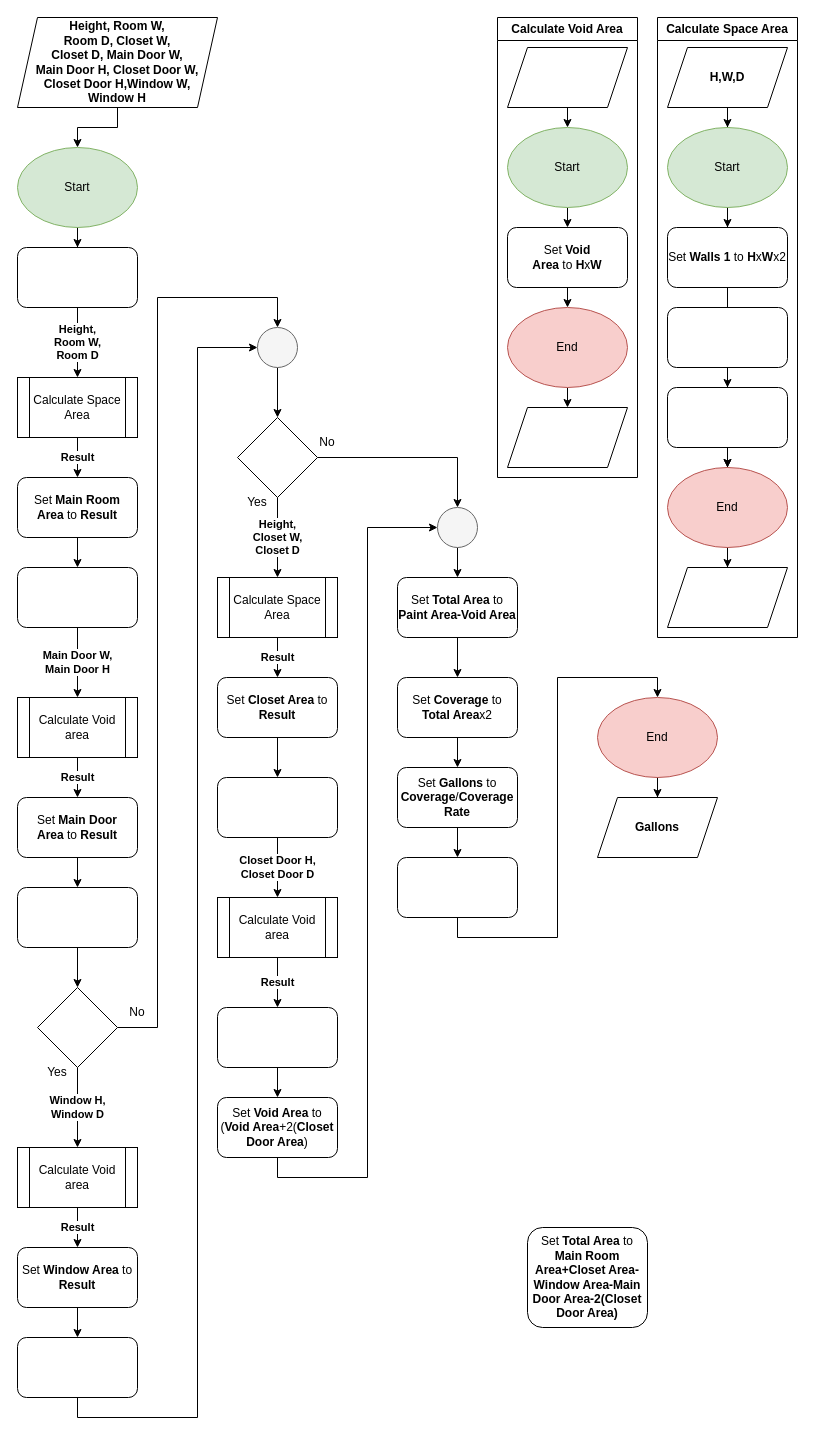
The diagram is 815 pixels wide and 1443 high, and some of its shapes have lost their labels. Each missing label, with the box of its shape:
Coverage Rate is 400: (16, 246, 138, 308)
H, W: (506, 46, 628, 108)
Is there a closet?: (236, 416, 318, 498)
Is there a window?: (36, 986, 118, 1068)
Round Gallons up to the nearest whole number: (396, 856, 518, 918)
Set Closet Door Area to Result: (216, 1006, 338, 1068)
Set Paint Area to ( Paint Area+Closet Area): (216, 776, 338, 838)
Set Paint Area to Main Room Area: (16, 566, 138, 628)
Set Surface Area to Walls 1 + Walls 2: (666, 386, 788, 448)
Set Void Area to ( Void Area + Window Area ): (16, 1336, 138, 1398)
Set Void Area to Main Door Area: (16, 886, 138, 948)
Set Walls 2 to H x D x2: (666, 306, 788, 368)
Surface Area: (666, 566, 788, 628)
Void Area: (506, 406, 628, 468)
